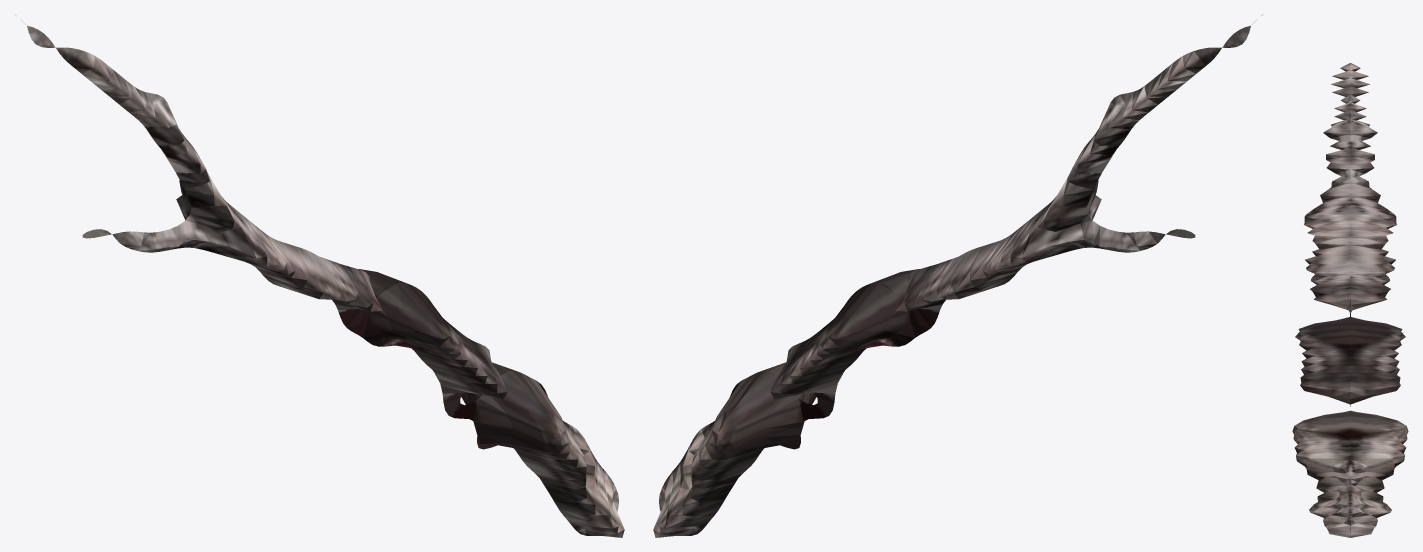
File: prop_branch.obj
3 renders of one model, left to right at view 1: azimuth 30°, elevation 25°; view 2: azimuth 150°, elevation 25°; view 3: azimuth 270°, elevation 25°, orthographic. The views are drawn at different scales.
Parts seen in each view (by area): view 1: prop_branch; view 2: prop_branch; view 3: prop_branch.
Part boxes in pixels (x1,y1,x2,y2): prop_branch: [14, 14, 624, 537]; prop_branch: [653, 14, 1263, 537]; prop_branch: [1292, 63, 1408, 537].
Size of the model in its own units: 1.32 by 1.38 by 0.3968.
Materials: 1 (1 with a texture image).
